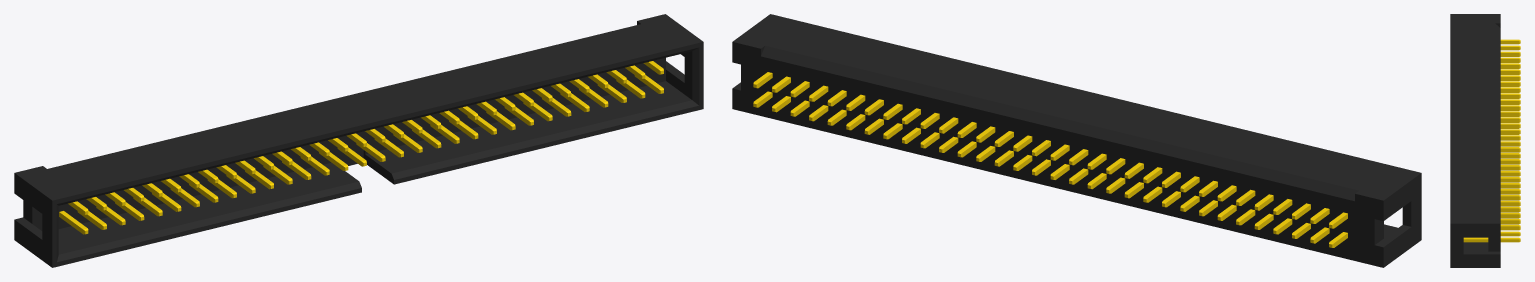
Rendered from DS1013-64S (IDC-64MS CONNFLY).obj.
3 renders of one model, left to right at view 1: azimuth 30°, elevation 25°; view 2: azimuth 150°, elevation 25°; view 3: azimuth 270°, elevation 25°, orthographic. The views are drawn at different scales.
Visible parts, largest first — view 1: DS1013-64S_(IDC-64MS_CONNFLY); view 2: DS1013-64S_(IDC-64MS_CONNFLY); view 3: DS1013-64S_(IDC-64MS_CONNFLY).
Part boxes in pixels (x1,y1,x2,y2): DS1013-64S_(IDC-64MS_CONNFLY): (14, 14, 703, 267); DS1013-64S_(IDC-64MS_CONNFLY): (732, 14, 1421, 267); DS1013-64S_(IDC-64MS_CONNFLY): (1450, 14, 1520, 267).
Bounding box in the file's own units: 0.0138 × 0.00138 × 0.00195.
